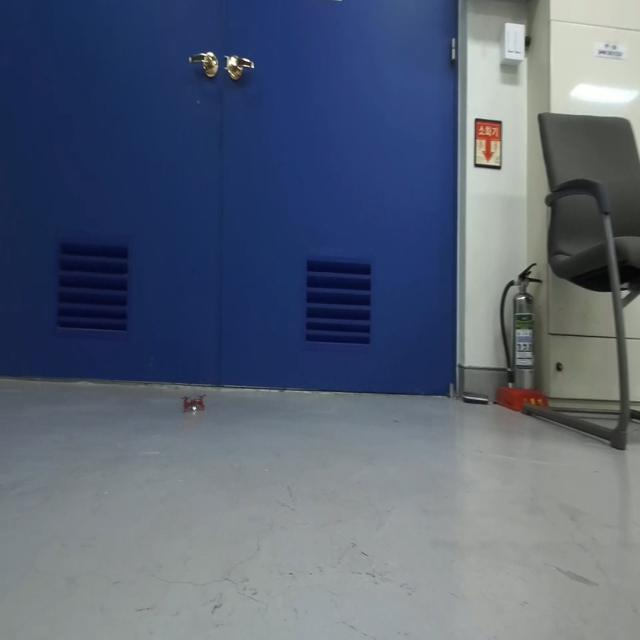crazyflie: (178, 391, 207, 419)
